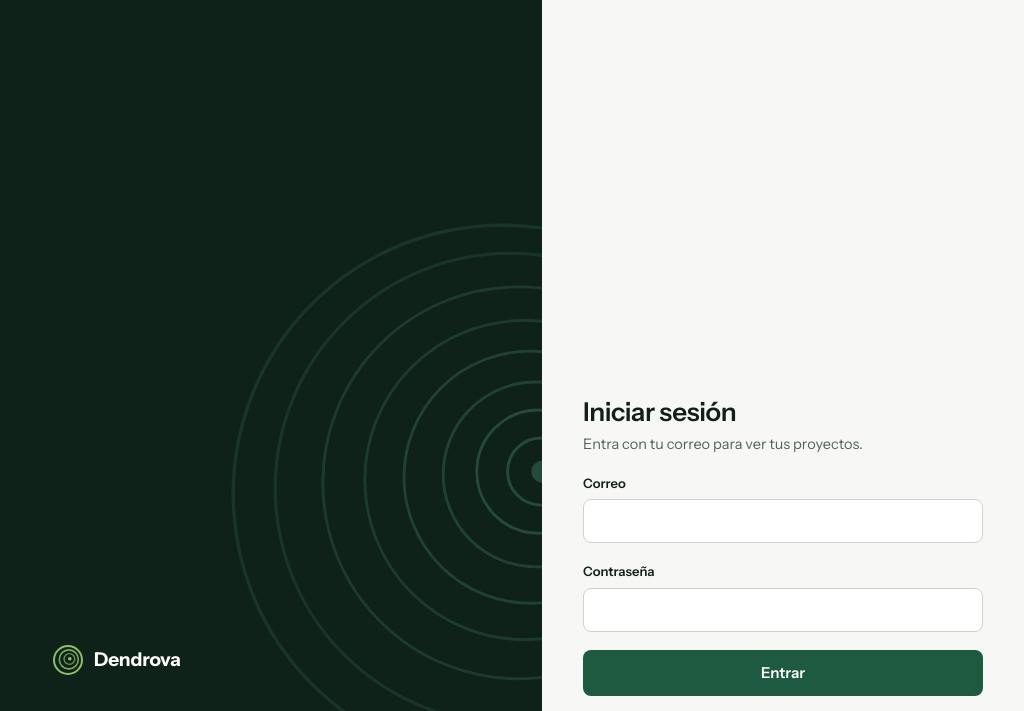
Test: E1 en la interfaz › iniciar sesión lleva a mis proyectos y la API recibe el token
Type "ana@example.com" into the field labelled "Correo". click: (783, 521)
box: [583,499,983,543]
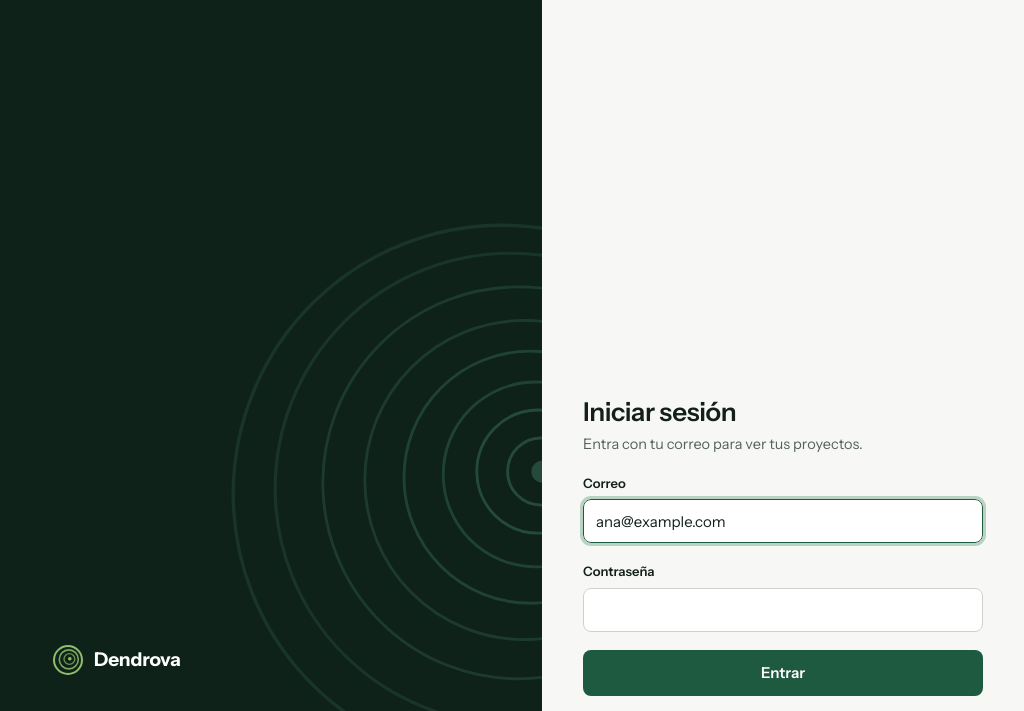
Type "secreto123" into the password field labelled "Contraseña". click: (783, 610)
box: [583,588,983,632]
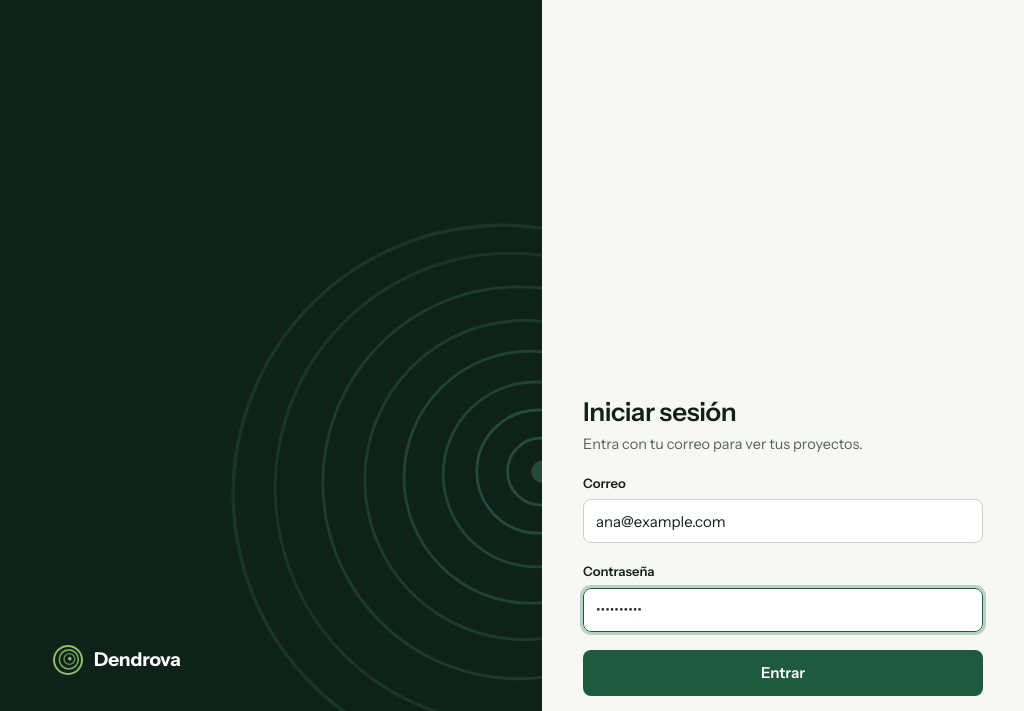
Click the button "Entrar". click: (783, 672)
box: [583,650,983,696]
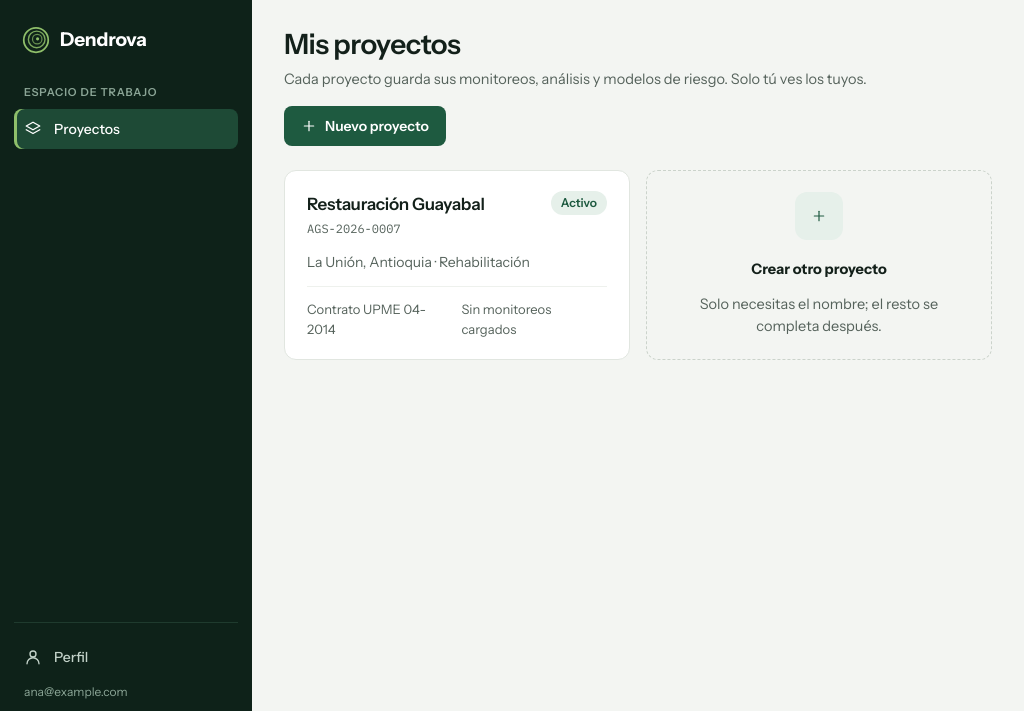
Result: the heading "Restauración Guayabal" is shown at [307,191,485,217]
